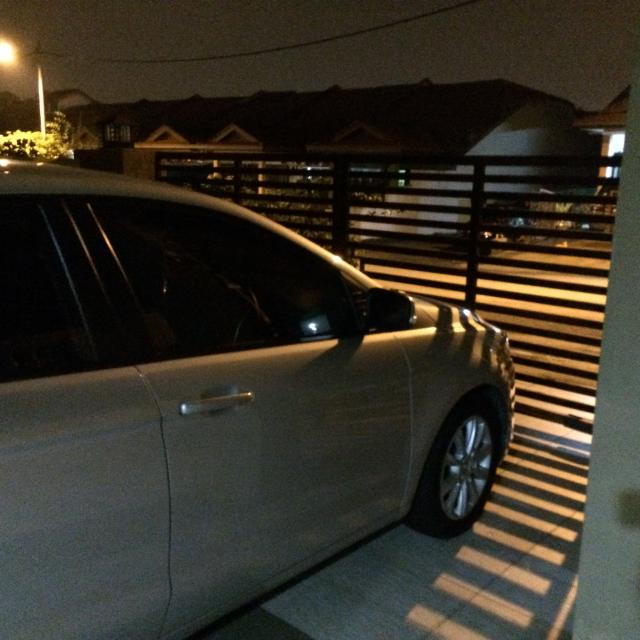Car: (0, 153, 516, 640)
